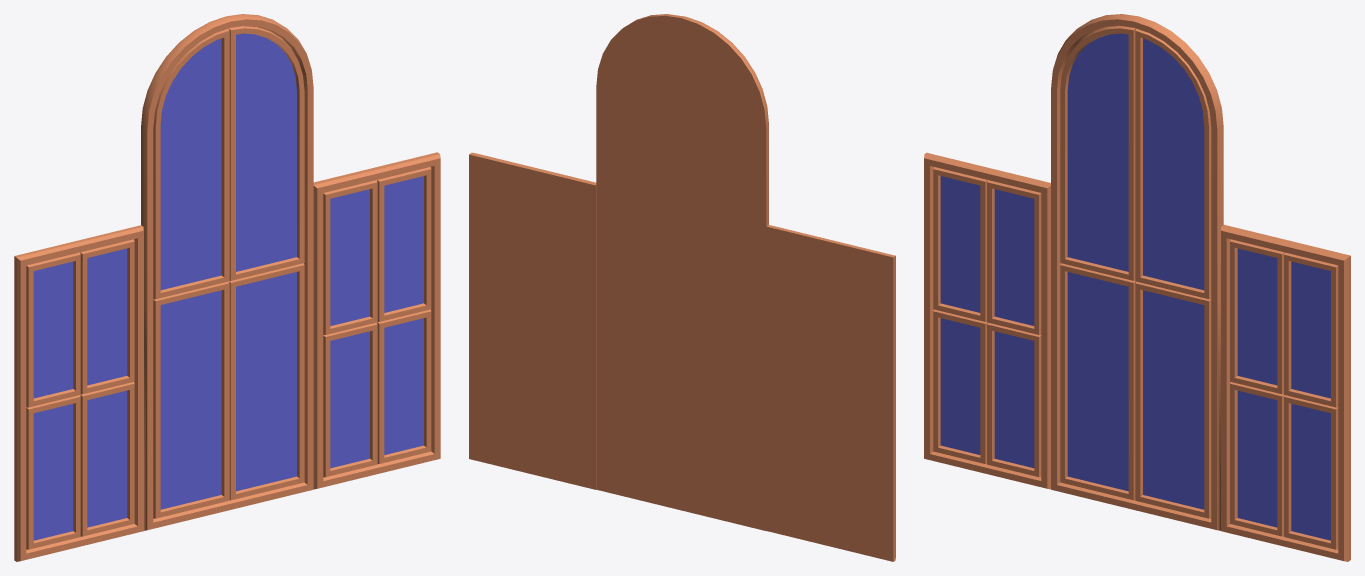
Rendered from SP_House06_Window06.fbx.
3 renders of one model, left to right at view 1: azimuth 30°, elevation 25°; view 2: azimuth 150°, elevation 25°; view 3: azimuth 330°, elevation 25°, orthographic.
Parts seen in each view (by area): view 1: SP_House06_Window06; view 2: SP_House06_Window06; view 3: SP_House06_Window06.
Part boxes in pixels (x1,y1,x2,y2): SP_House06_Window06: (14,14,440,561); SP_House06_Window06: (469,14,895,561); SP_House06_Window06: (924,14,1350,561).
Size of the model in its own units: 2.21 by 2.46 by 0.0446.
